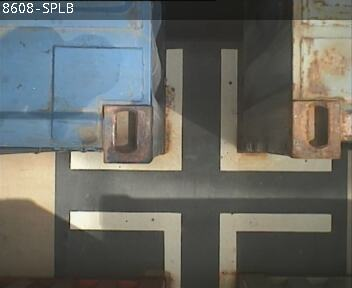groundmarker_1: (69, 50, 328, 170), (69, 211, 330, 288)
